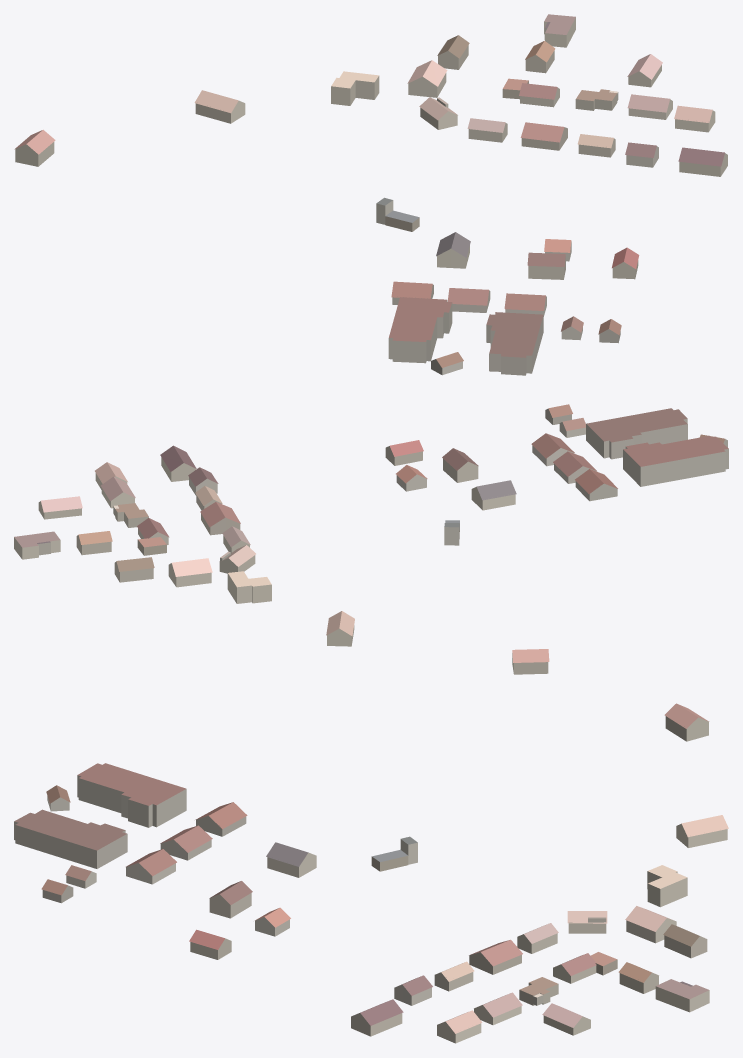
3 views of the same model, one above another, from view 1: azimuth 30°, elevation 25°; view 2: azimuth 150°, elevation 25°; view 3: azimuth 270°, elevation 25° (orthographic). The views are drawn at different scales.
Parts seen in each view (by area): view 1: tuile; view 2: tuile; view 3: tuile.
Boxes of the visible parts, x1,y1,x2,y2 form: tuile: (14, 14, 727, 375); tuile: (14, 404, 728, 674); tuile: (14, 703, 728, 1043).
Bounding box in the file's own units: 265 × 23.75 × 266.
